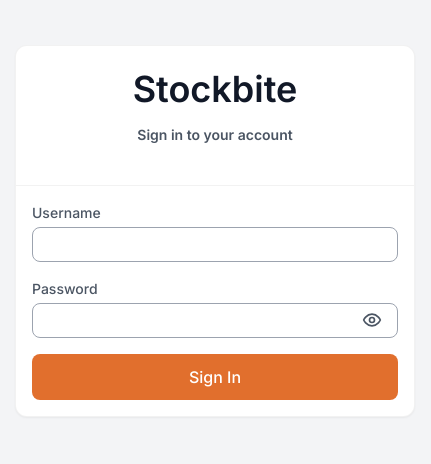
Test: Login Component › handles login failure
Type "wronguser" into the field labelled "Username".
click(215, 244); type("wronguser")  # box [32,227,398,262]
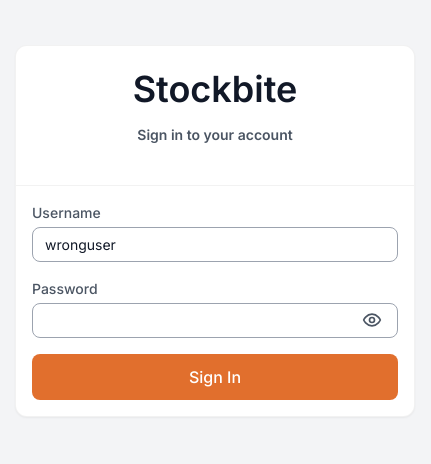
Type "wrongpass" into the password field labelled "Password".
click(215, 320); type("wrongpass")  # box [32,303,398,338]
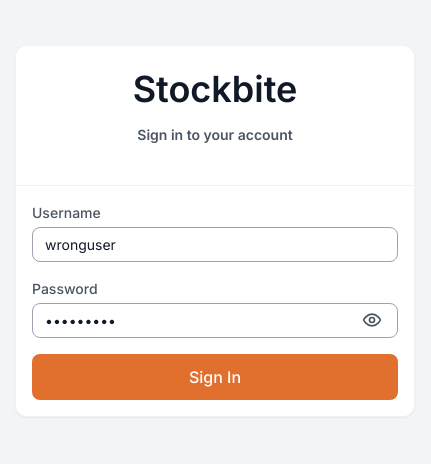
Click the button "Sign In".
click(215, 377)  # box [32,354,398,400]
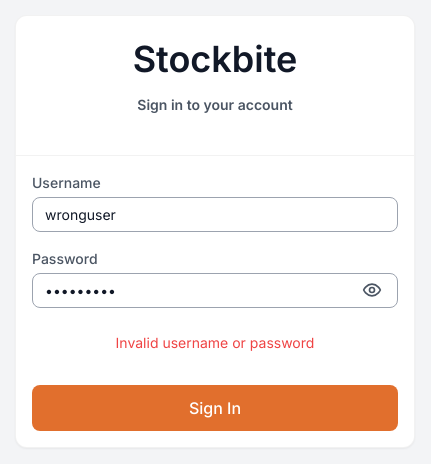
Now the text "Invalid username or password" is shown, box [116,334,314,350]
